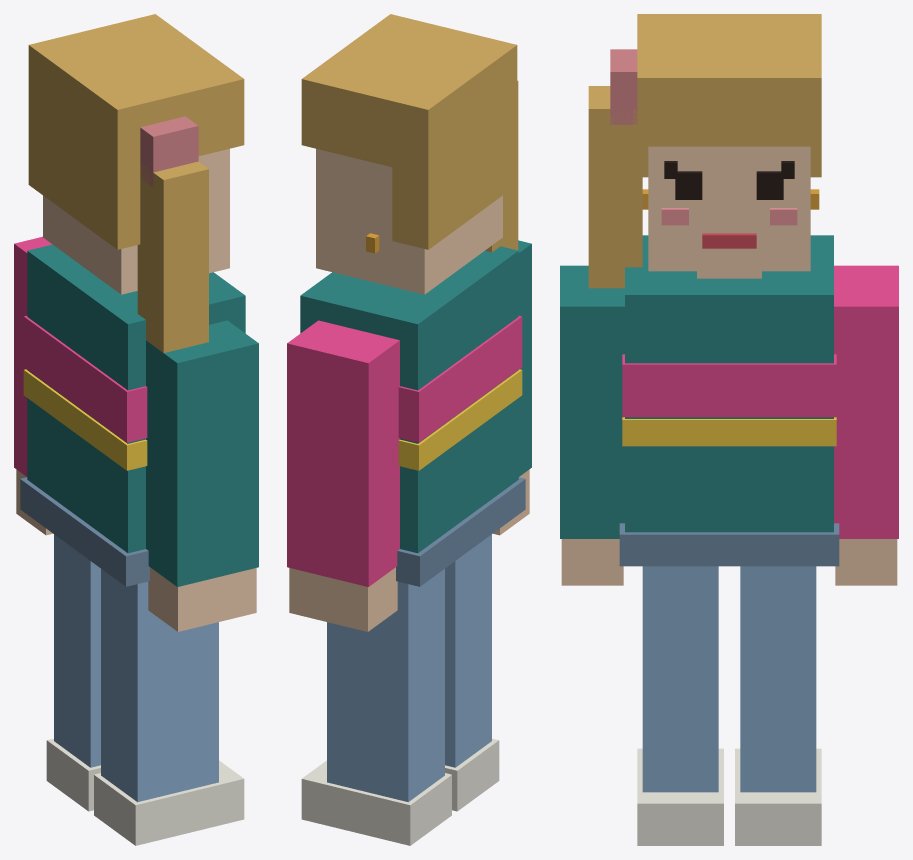
Rendered from walker_4.glb.
3 renders of one model, left to right at view 1: azimuth 30°, elevation 25°; view 2: azimuth 150°, elevation 25°; view 3: azimuth 270°, elevation 25°, orthographic. The views are drawn at different scales.
Visible parts, largest first — view 1: Box7, Box24, Box9, Box5, Box27, Box1, Box25, Box6, Box14, Box10, Box8, Box12 (+5 smaller); view 2: Box3, Box9, Box24, Box1, Box14, Box25, Box5, Box2, Box10, Box4, Box12, Box11 (+4 smaller); view 3: Box9, Box24, Box3, Box1, Box5, Box14, Box7, Box10, Box27, Box12, Box11, Box2 (+7 smaller).
Boxes of the visible parts, bbox=[...] form: Box7: bbox=[146, 320, 258, 586]; Box24: bbox=[28, 14, 244, 175]; Box9: bbox=[27, 244, 245, 553]; Box5: bbox=[101, 569, 218, 802]; Box27: bbox=[137, 161, 208, 352]; Box1: bbox=[54, 534, 100, 767]; Box25: bbox=[28, 90, 140, 249]; Box6: bbox=[94, 760, 244, 845]; Box14: bbox=[43, 148, 229, 294]; Box10: bbox=[23, 315, 147, 442]; Box8: bbox=[148, 567, 256, 631]; Box12: bbox=[20, 477, 149, 586]; Box3: bbox=[287, 320, 399, 586]; Box9: bbox=[300, 246, 518, 553]; Box24: bbox=[301, 14, 517, 175]; Box1: bbox=[327, 569, 444, 802]; Box14: bbox=[316, 148, 502, 294]; Box25: bbox=[392, 111, 517, 249]; Box5: bbox=[445, 534, 491, 767]; Box2: bbox=[301, 760, 451, 845]; Box10: bbox=[398, 315, 522, 442]; Box4: bbox=[289, 567, 397, 631]; Box12: bbox=[396, 477, 525, 586]; Box11: bbox=[398, 369, 522, 470]; Box9: bbox=[625, 235, 833, 532]; Box24: bbox=[637, 14, 821, 146]; Box3: bbox=[834, 265, 898, 538]; Box1: bbox=[740, 566, 816, 792]; Box5: bbox=[642, 566, 718, 792]; Box14: bbox=[648, 146, 810, 271]; Box7: bbox=[560, 265, 624, 538]; Box10: bbox=[622, 354, 836, 417]; Box27: bbox=[588, 86, 642, 288]; Box12: bbox=[619, 523, 839, 566]; Box11: bbox=[622, 417, 836, 446]; Box2: bbox=[735, 748, 821, 845].
Size of the model in its own units: 0.3175 by 1.77 by 0.7088.
